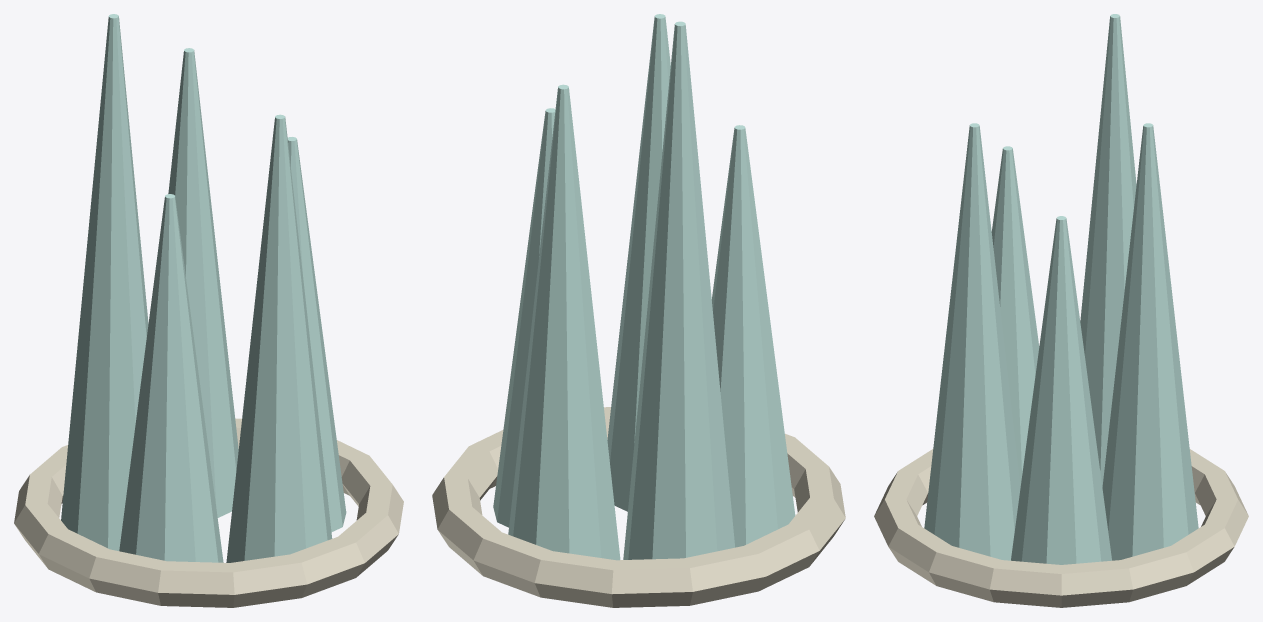
Rendered from crystal_spire.glb.
The picture shows the model from 3 angles, left to right: view 1: azimuth 30°, elevation 25°; view 2: azimuth 150°, elevation 25°; view 3: azimuth 270°, elevation 25°; orthographic projection. The views are drawn at different scales.
Parts seen in each view (by area): view 1: crystal_spire_Visor_sea_glass, crystal_spire_Warm_limestone; view 2: crystal_spire_Visor_sea_glass, crystal_spire_Warm_limestone; view 3: crystal_spire_Visor_sea_glass, crystal_spire_Warm_limestone.
Part boxes in pixels (x1=…): crystal_spire_Visor_sea_glass: x1=61, y1=14, x2=346, y2=562; crystal_spire_Warm_limestone: x1=14, y1=418, x2=403, y2=607; crystal_spire_Visor_sea_glass: x1=493, y1=14, x2=795, y2=560; crystal_spire_Warm_limestone: x1=432, y1=407, x2=845, y2=607; crystal_spire_Visor_sea_glass: x1=924, y1=14, x2=1198, y2=564; crystal_spire_Warm_limestone: x1=874, y1=449, x2=1248, y2=607.
Bounding box in the file's own units: 2.26 × 3.28 × 2.26.
